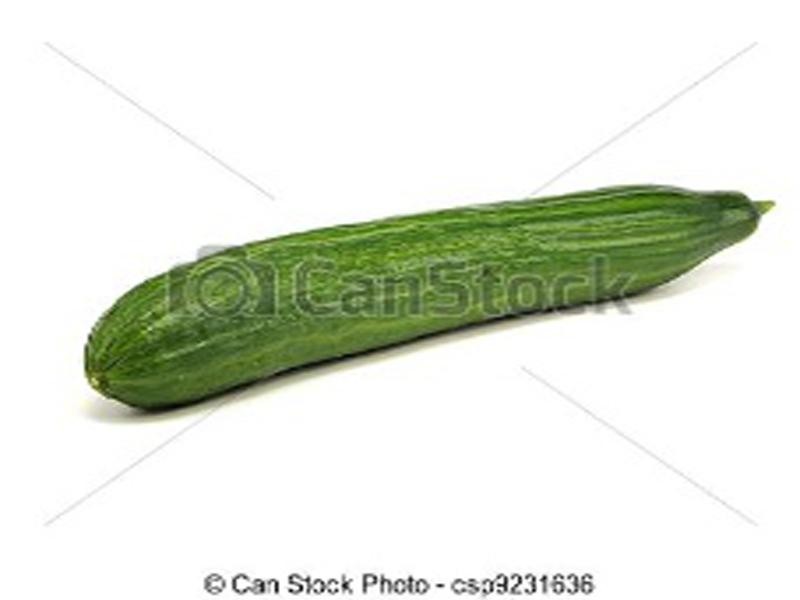Cucumber: (88, 188, 772, 410)
